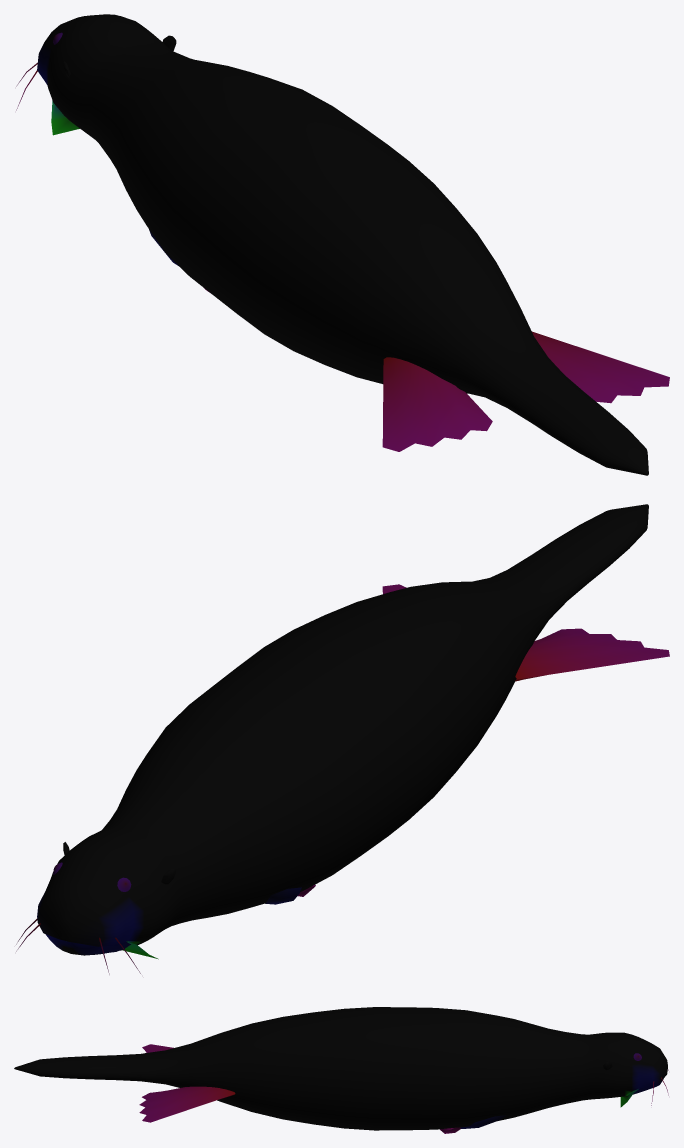
File: sea_otter_lo.glb
3 views of the same model, one above another, from view 1: azimuth 30°, elevation 25°; view 2: azimuth 150°, elevation 25°; view 3: azimuth 270°, elevation 25° (orthographic). The views are drawn at different scales.
Parts seen in each view (by area): view 1: sea_otter_lo; view 2: sea_otter_lo; view 3: sea_otter_lo.
Boxes of the visible parts, <box> form: sea_otter_lo: <box>16,14,669,475</box>; sea_otter_lo: <box>16,504,669,974</box>; sea_otter_lo: <box>14,1007,668,1133</box>.
Size of the model in its own units: 0.3696 by 0.242 by 1.31.
